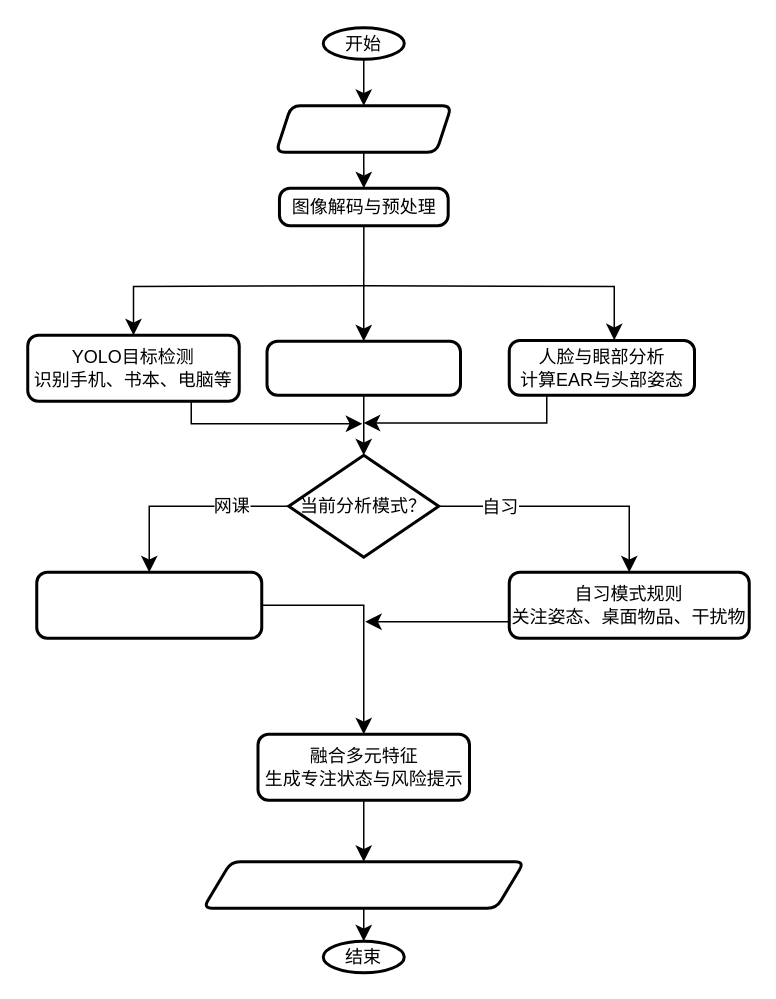
The diagram is 776 pixels wide and 999 high, and some of its shapes have lost their labels. The centre of each missing label's shape, as x and y in pixels:
人体姿态估计 分析上半身与桌面姿态: pixel 363 367
接收终端图像 与分析模式参数: pixel 363 128
网课模式规则 关注眼部状态、离屏、朝向: pixel 148 604
返回学习状态结果： focusScore、stateTag、reasons: pixel 363 884
